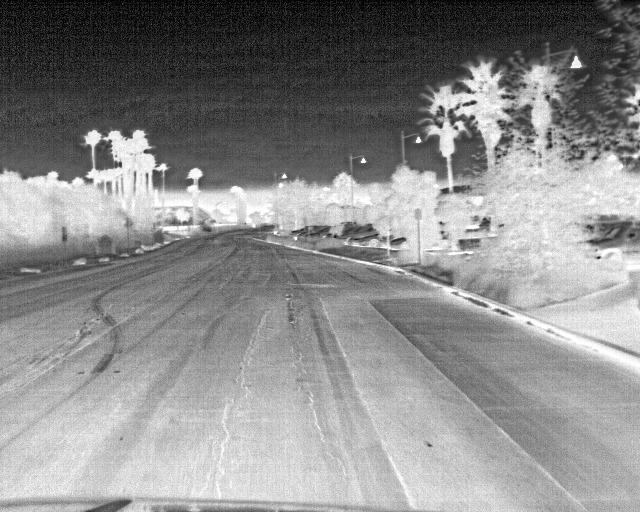car: (588, 218, 638, 272), (357, 230, 384, 248), (304, 226, 332, 242)
